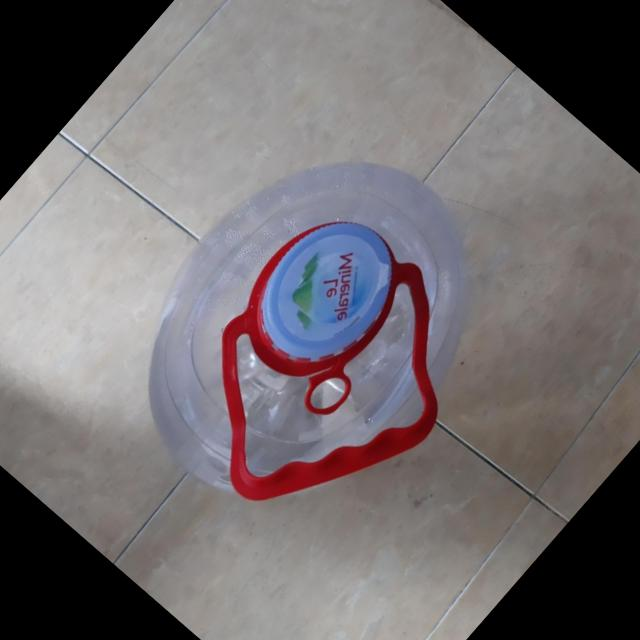Galon: (80, 95, 552, 576)
